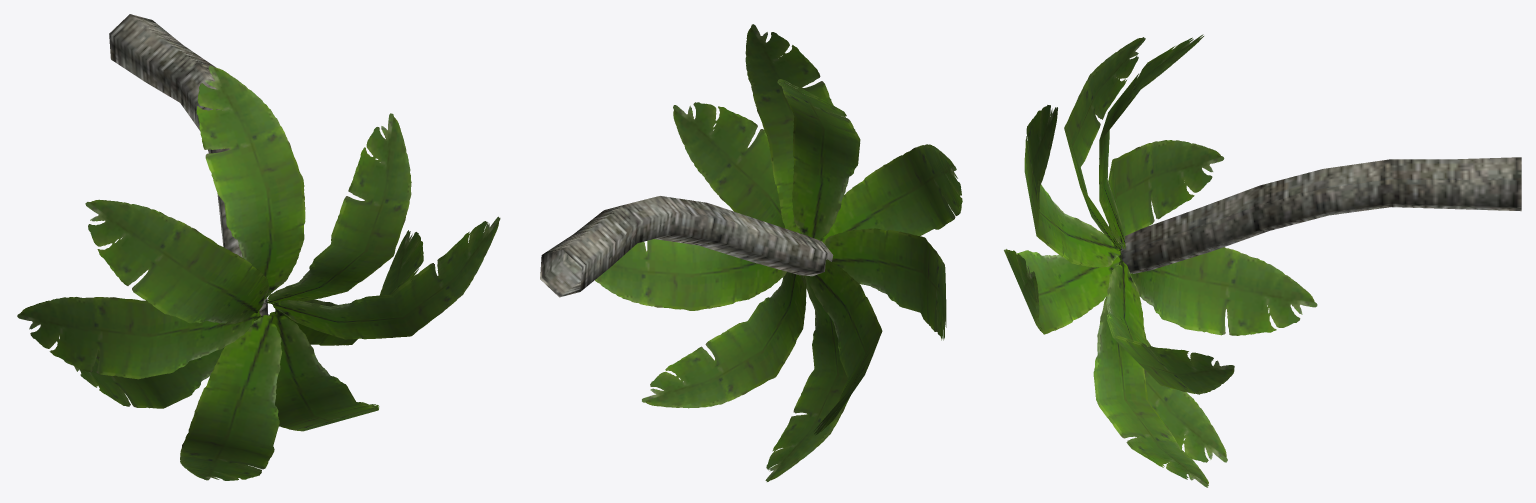
The model's file is palm_02.obj.
3 renders of one model, left to right at view 1: azimuth 30°, elevation 25°; view 2: azimuth 150°, elevation 25°; view 3: azimuth 270°, elevation 25°, orthographic. The views are drawn at different scales.
Visible parts, largest first — view 1: plant_pmat1; view 2: plant_pmat1; view 3: plant_pmat1.
Part boxes in pixels (box(x1,y1,x2,y2)): plant_pmat1: box(17, 14, 500, 480); plant_pmat1: box(540, 24, 962, 481); plant_pmat1: box(1004, 34, 1521, 487).
Size of the model in its own units: 2.56 by 2.62 by 2.8.
